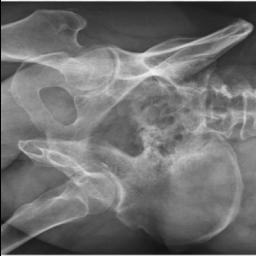cancer: (75, 126, 212, 196), (114, 195, 168, 246)
